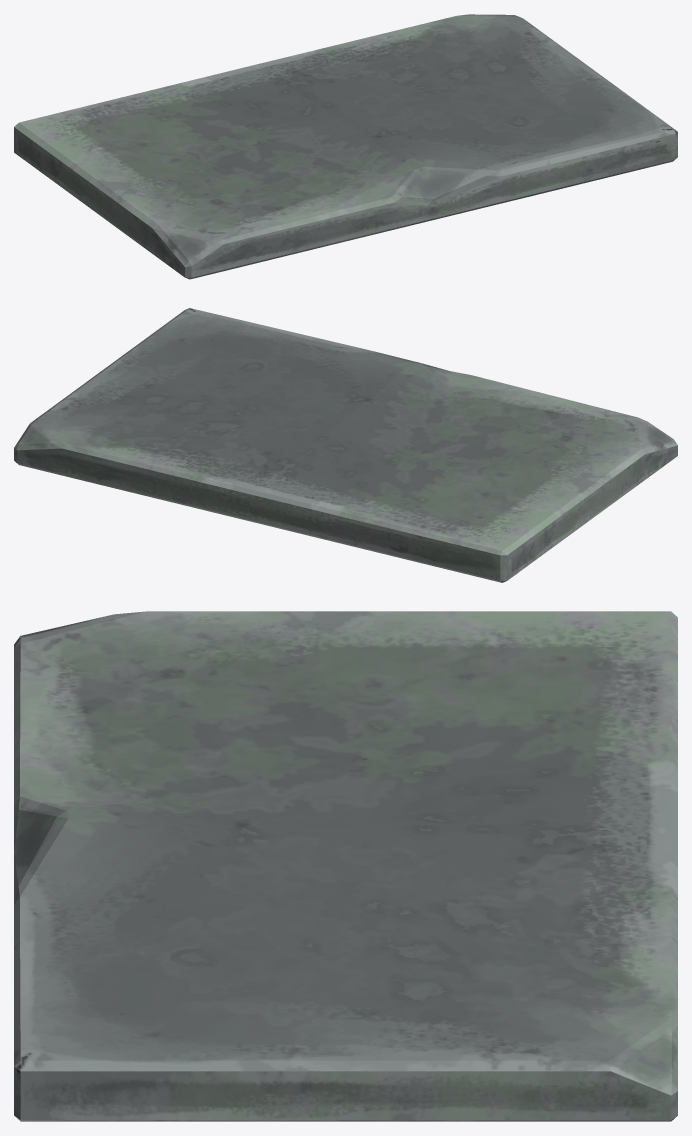
The model's file is roadplane01.fbx.
3 views of the same model, one above another, from view 1: azimuth 30°, elevation 25°; view 2: azimuth 150°, elevation 25°; view 3: azimuth 270°, elevation 25° (orthographic). The views are drawn at different scales.
Parts seen in each view (by area): view 1: roanplane01; view 2: roanplane01; view 3: roanplane01.
Boxes of the visible parts, x1,y1,x2,y2 form: roanplane01: (14,14,677,279); roanplane01: (14,308,677,582); roanplane01: (14,611,677,1121).
Size of the model in its own units: 691 by 58.36 by 423.
